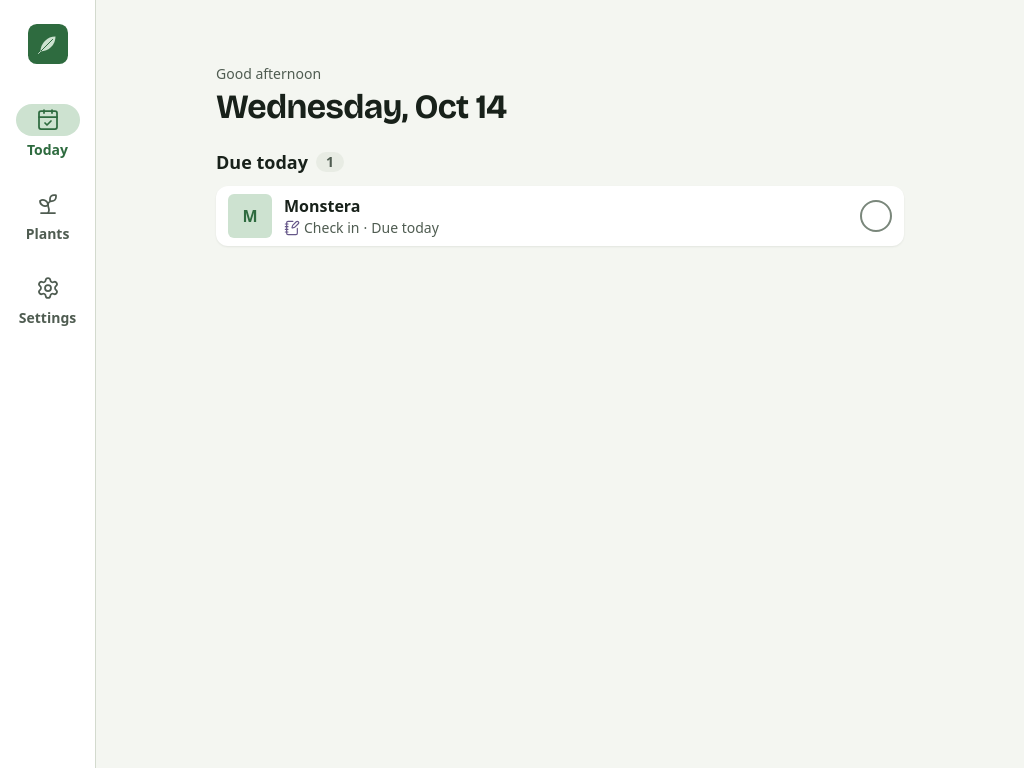
Scenario: Check in › only logs the task when nothing was filled in
The width and height of the screenshot is (1024, 768).
Click the button named "Check in on Monstera". click: (876, 216)
box: [852,192,900,240]
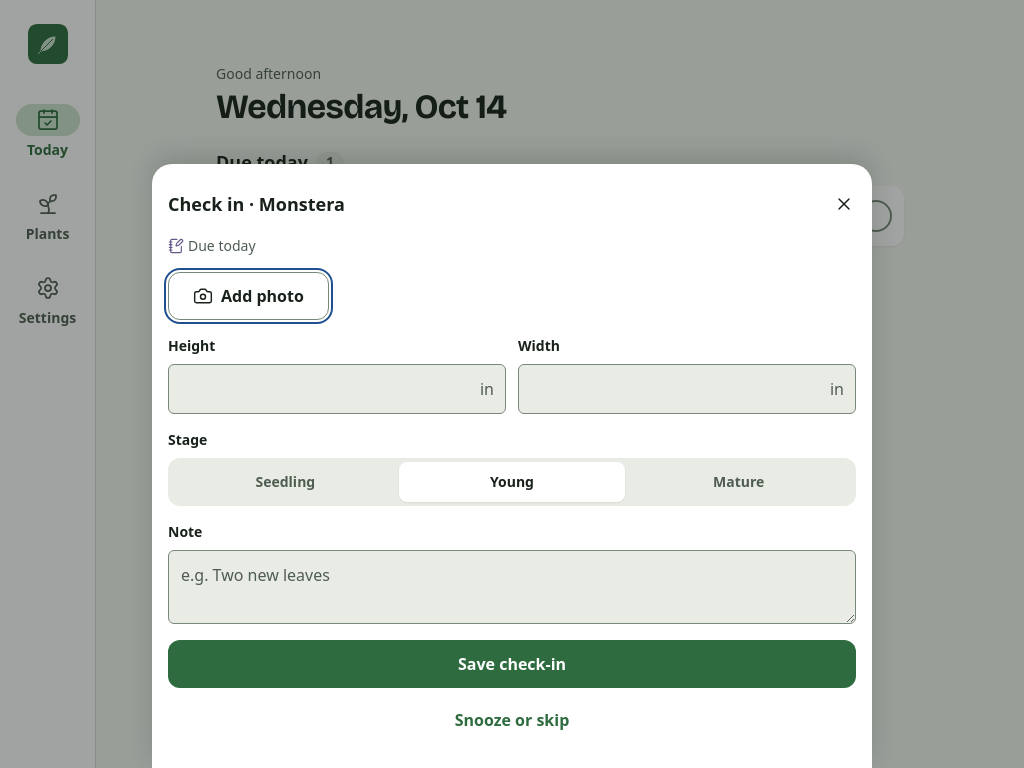
Click the button "Save check-in". click: (512, 664)
box: [168,640,856,688]
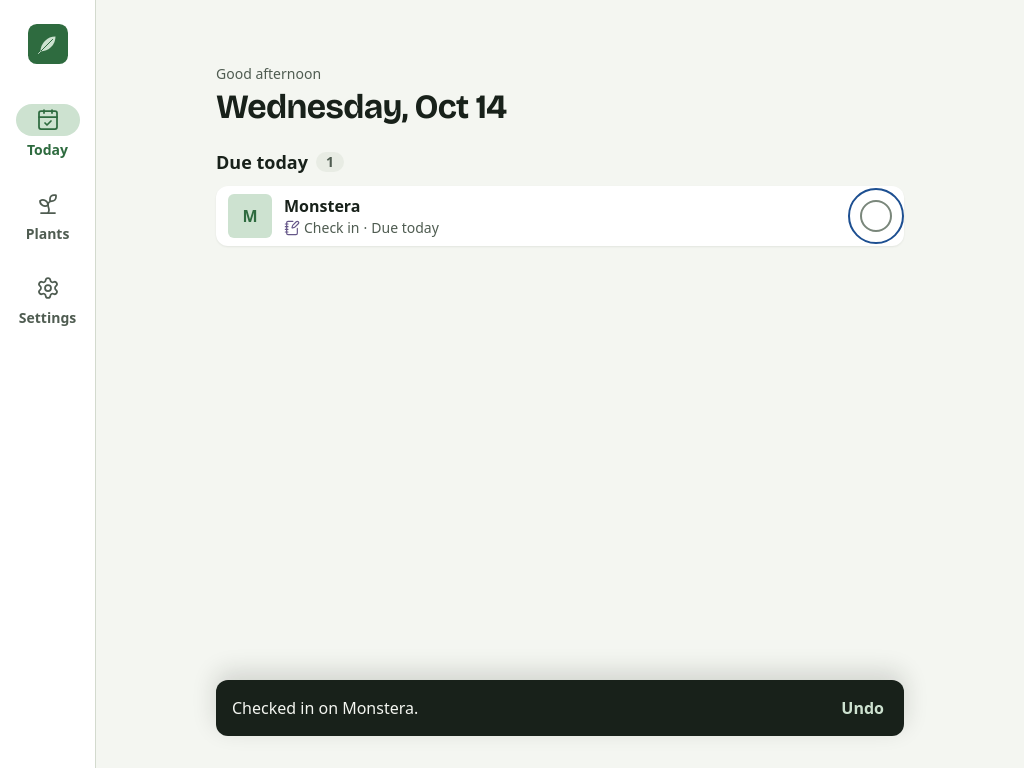
expect the text "Checked in on Monstera." is shown: met, box [232,697,418,719]
